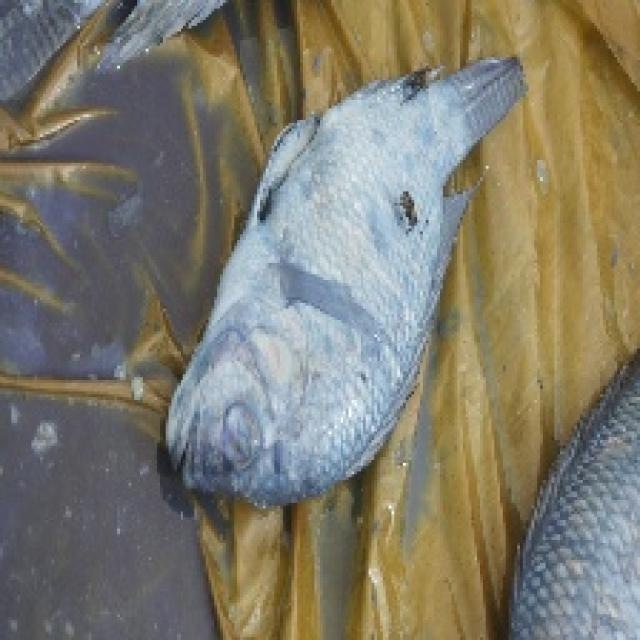Non-Fresh: (172, 91, 434, 517)
